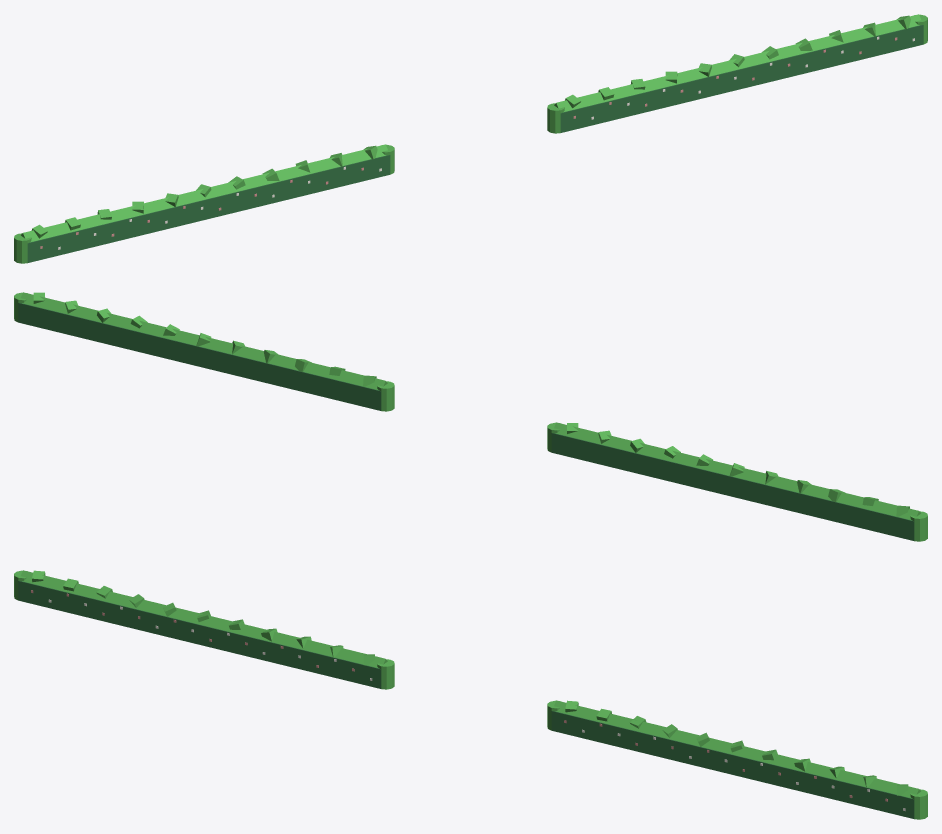
The model's file is CatCafe_Lawn_Fence_LowHedge.glb.
The picture shows the model from 3 angles, top to bottom: view 1: azimuth 30°, elevation 25°; view 2: azimuth 150°, elevation 25°; view 3: azimuth 330°, elevation 25°; orthographic projection.
Parts seen in each view (by area): view 1: CatCafe_Lawn_Fence_LowHedge; view 2: CatCafe_Lawn_Fence_LowHedge; view 3: CatCafe_Lawn_Fence_LowHedge.
Part boxes in pixels (box(x1,y1,x2,y2)): CatCafe_Lawn_Fence_LowHedge: box(14, 14, 927, 263); CatCafe_Lawn_Fence_LowHedge: box(14, 292, 927, 541); CatCafe_Lawn_Fence_LowHedge: box(14, 570, 927, 819).
Bounding box in the file's own units: 45.96 × 1.38 × 0.8382.
Materials: 1 (1 with a texture image).
